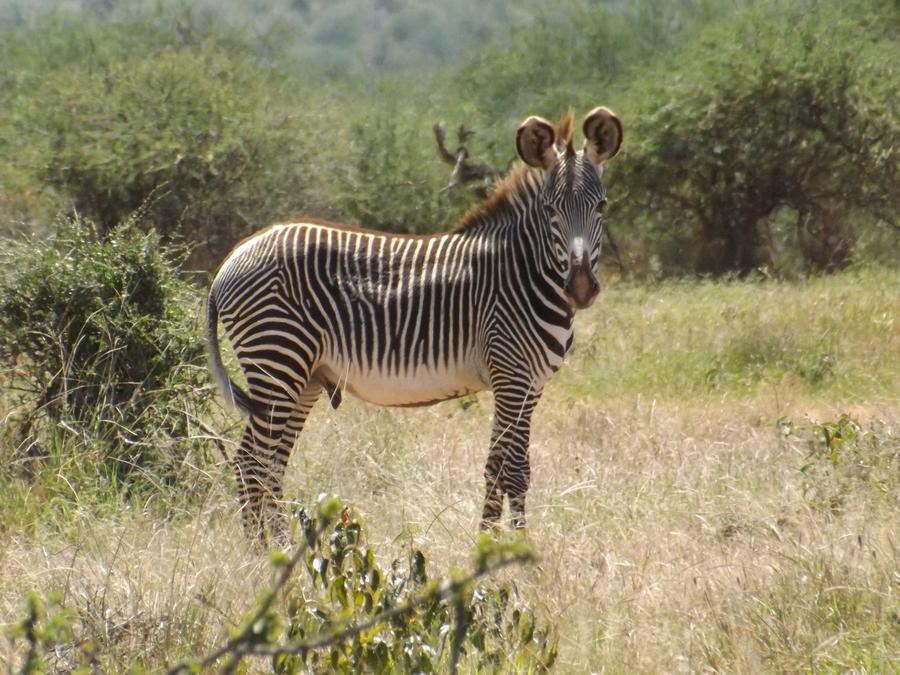zebra_grevys: (206, 206, 545, 408)
